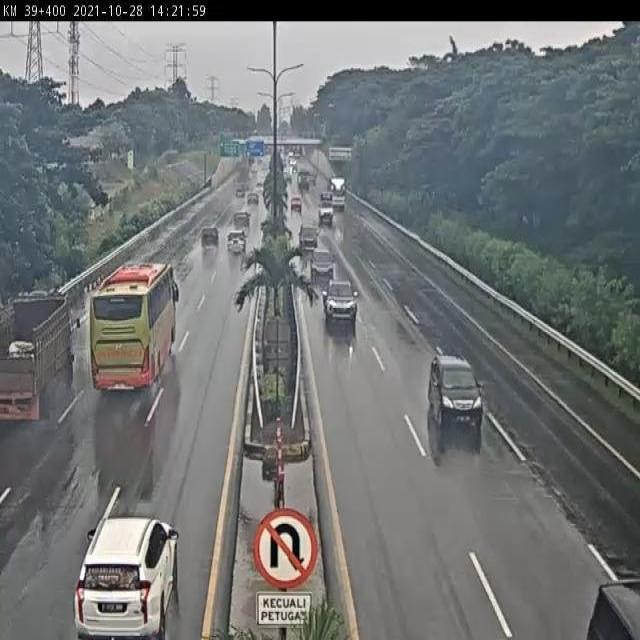Bus: (87, 253, 175, 403)
Car: (73, 514, 181, 638), (420, 351, 490, 436), (584, 574, 640, 638), (322, 279, 358, 334), (310, 249, 334, 285), (227, 229, 247, 255), (201, 226, 219, 250), (300, 225, 318, 249), (318, 205, 334, 225), (234, 210, 250, 228), (290, 195, 302, 213), (333, 194, 345, 211), (235, 182, 248, 196), (320, 191, 332, 205), (247, 191, 259, 205)
Truck: (0, 287, 74, 414)
